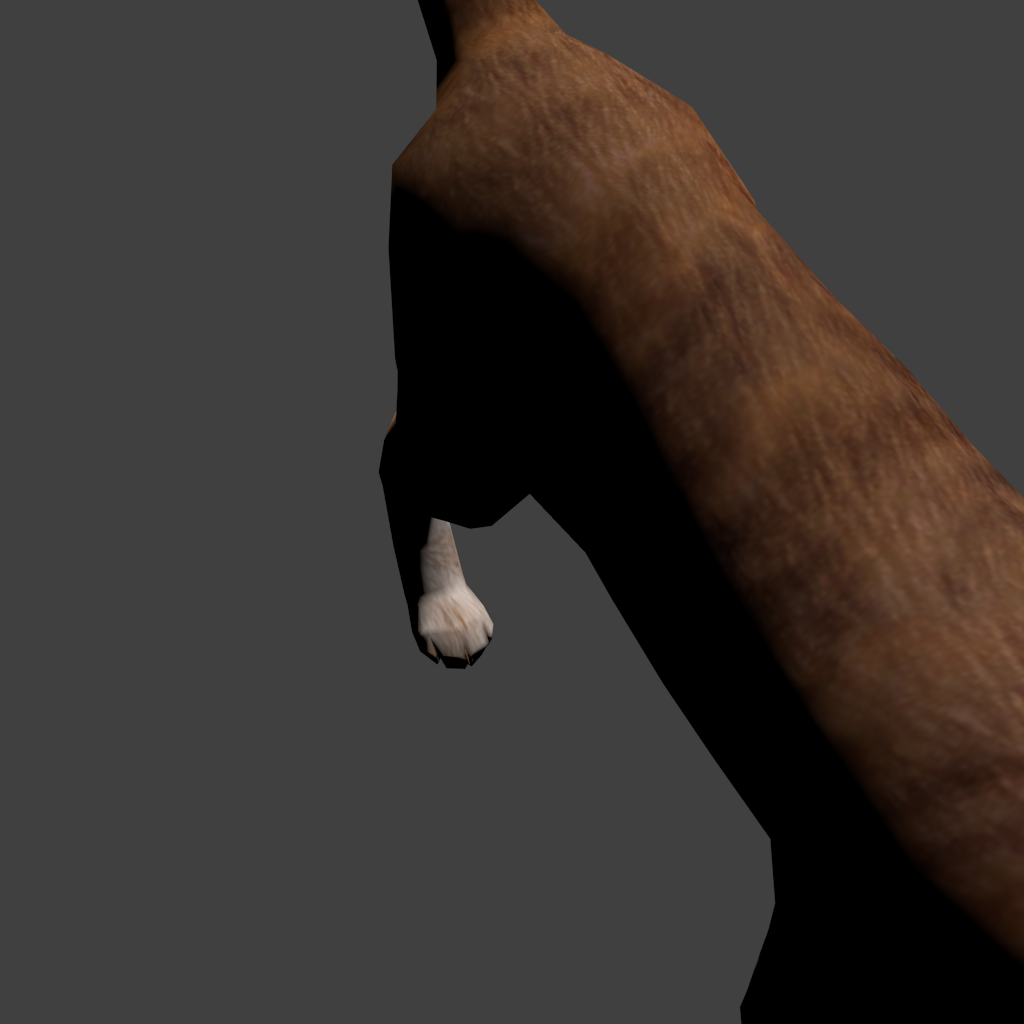Cat: (245, 0, 779, 1024)
